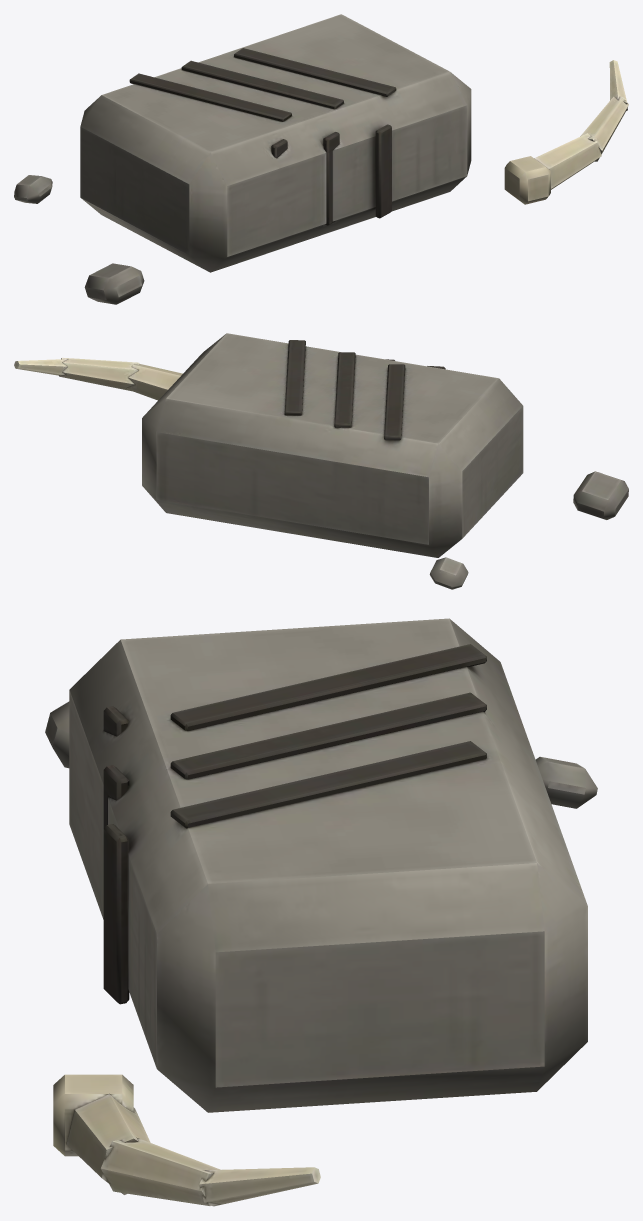
Rendered from camp_stilltusks.glb.
The picture shows the model from 3 angles, top to bottom: view 1: azimuth 30°, elevation 25°; view 2: azimuth 150°, elevation 25°; view 3: azimuth 270°, elevation 25°; orthographic projection. The views are drawn at different scales.
Parts seen in each view (by area): view 1: camp_stilltusks_body; view 2: camp_stilltusks_body; view 3: camp_stilltusks_body.
Boxes of the visible parts, left/top/right/bottom form: camp_stilltusks_body: left=14, top=14, right=628, bottom=304; camp_stilltusks_body: left=14, top=333, right=628, bottom=589; camp_stilltusks_body: left=45, top=618, right=597, bottom=1206.
Size of the model in its own units: 2.23 by 0.458 by 0.9636.
1 material, 1 textured.
